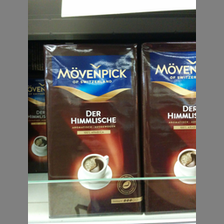coffee: (43, 42, 144, 217), (141, 41, 196, 217)
